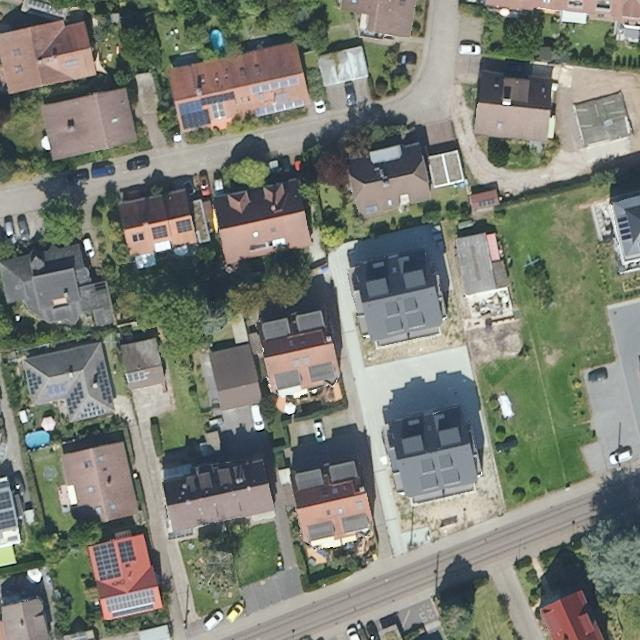PV: (103, 587, 159, 620), (90, 540, 124, 585), (253, 95, 307, 119), (91, 355, 115, 408), (250, 74, 302, 97), (21, 362, 48, 402), (72, 396, 114, 421), (66, 377, 86, 422), (197, 88, 238, 109), (179, 108, 212, 132), (613, 213, 635, 246), (115, 537, 139, 566), (1, 489, 18, 529), (121, 368, 148, 389), (173, 98, 203, 116), (175, 215, 195, 237), (149, 223, 170, 243), (475, 195, 498, 208)
